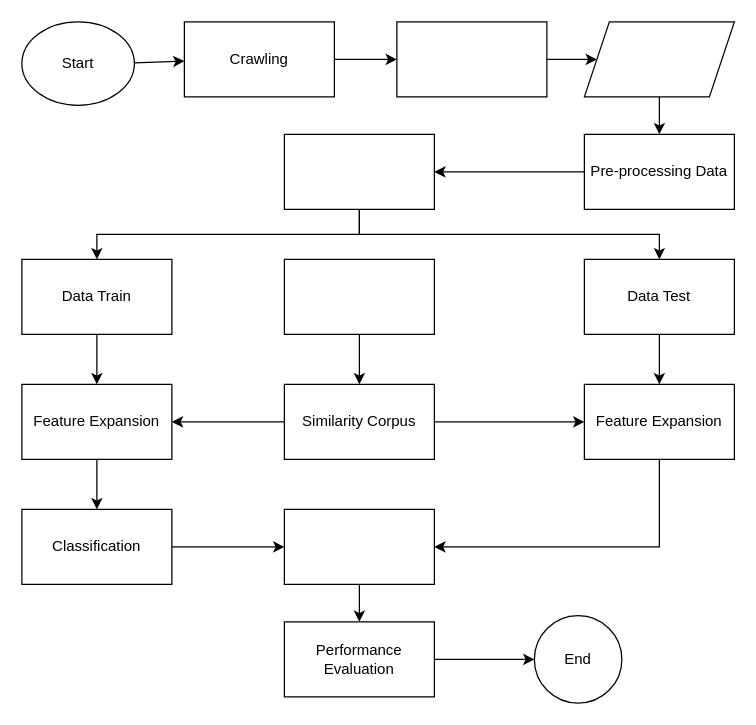
Some shapes in this 756 by 725 pixel diagram are drawn without their labels. Here are the shapes that lost their labels. From the top down, the box of each, then its label:
(396, 21, 547, 97): Labelling
(583, 21, 734, 97): Dataset
(283, 133, 434, 209): Split Data
(283, 258, 434, 334): Create Corpus using Twitter Data
(283, 508, 434, 584): Sentiment Prediction
